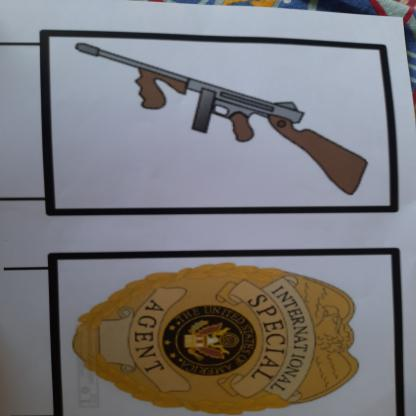Bootlegger: (63, 37, 375, 207)
G-man: (50, 257, 390, 416)
